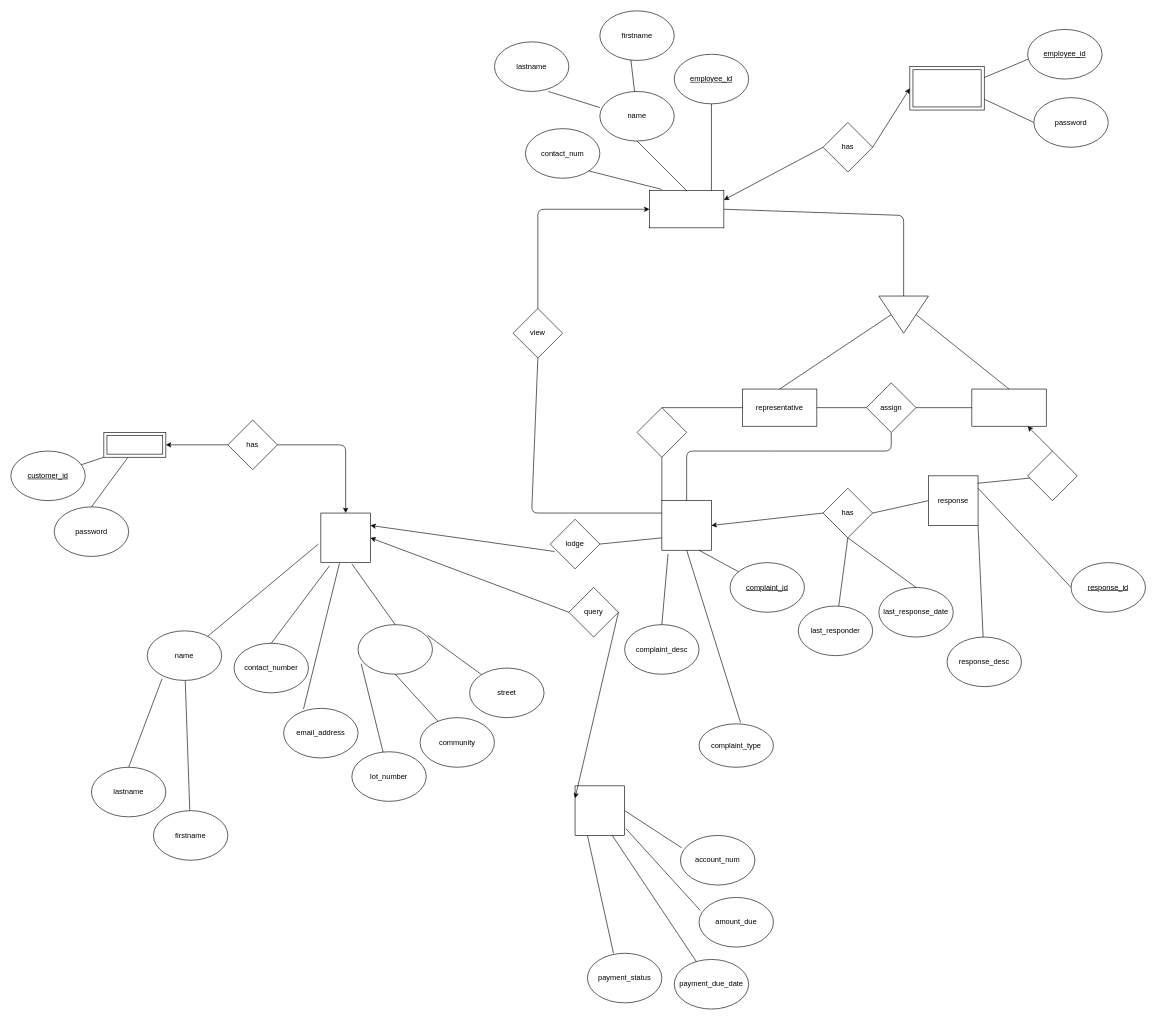
Some shapes in this 1156 by 1020 pixel diagram are drawn without their labels. The shapes that lost their labels are listed below. From the top down, each one's box as (x1, y1, x2, y2) in pixels, then its label:
(909, 66, 984, 110): emp_credential
(649, 190, 724, 228): employee
(878, 295, 928, 333): IS A
(971, 388, 1046, 426): technician
(103, 432, 166, 457): cust_credential
(636, 407, 687, 457): log
(1027, 450, 1077, 501): give
(320, 512, 370, 563): customer
(661, 500, 711, 550): complaint
(357, 624, 432, 674): address
(574, 785, 625, 835): account
